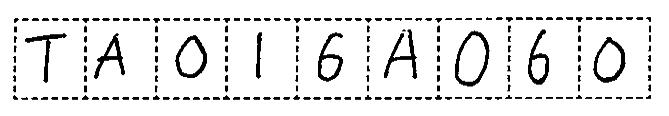0: (451, 26, 494, 90), (590, 32, 632, 87), (169, 32, 213, 84)
1: (245, 27, 277, 84)
6: (520, 28, 556, 88), (314, 27, 349, 83)
A: (374, 25, 426, 82), (92, 30, 134, 83)
T: (22, 28, 72, 87)
